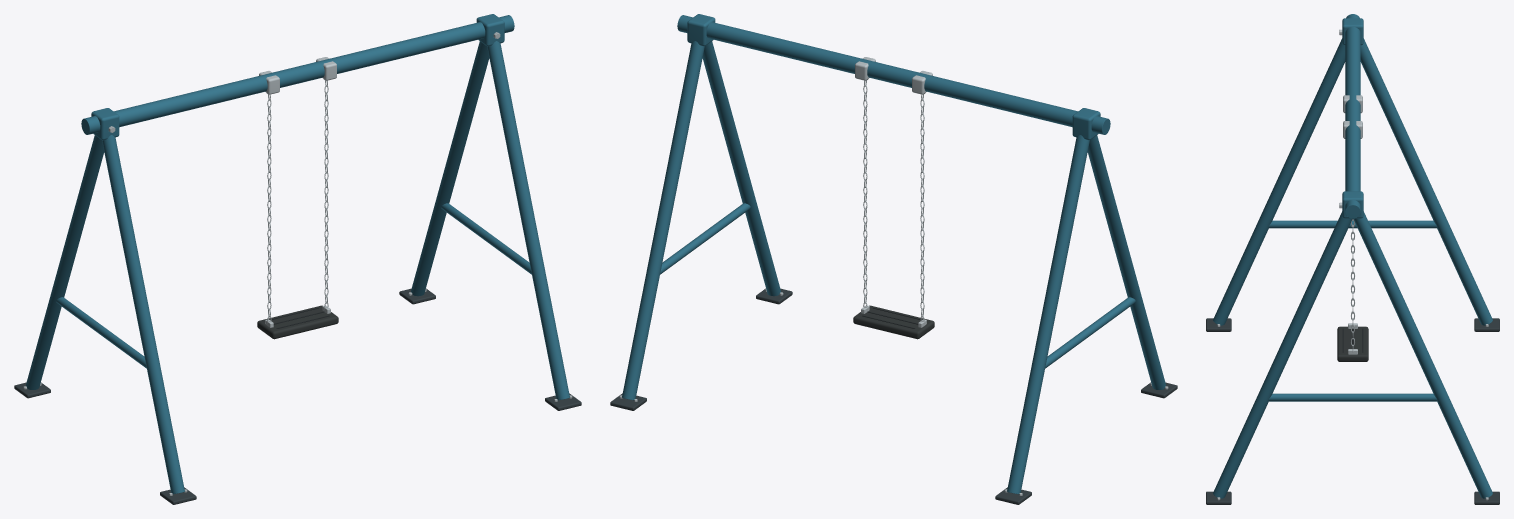
File: city-playground-swing.glb
3 views of the same model, side by side, from view 1: azimuth 30°, elevation 25°; view 2: azimuth 150°, elevation 25°; view 3: azimuth 270°, elevation 25° (orthographic). The views are drawn at different scales.
Parts seen in each view (by area): view 1: Continuous top beam, A-frame structural leg, A-frame structural leg.002, A-frame structural leg.001, A-frame structural leg.003, Rubber swing seat, A-frame spreader brace, A-frame spreader brace.001, Left suspension chain, Right suspension chain, Apex reinforcing saddle.001; view 2: Continuous top beam, A-frame structural leg.001, A-frame structural leg.003, A-frame structural leg, A-frame structural leg.002, Rubber swing seat, A-frame spreader brace, A-frame spreader brace.001, Left suspension chain, Right suspension chain, Apex reinforcing saddle.001, Apex reinforcing saddle; view 3: A-frame structural leg.002, A-frame structural leg.003, A-frame structural leg, A-frame structural leg.001, Continuous top beam, A-frame spreader brace.001, A-frame spreader brace, Rubber swing seat, Apex reinforcing saddle.001, Apex reinforcing saddle.
Part boxes in pixels (x1=…): Continuous top beam: x1=81, y1=15, x2=514, y2=134; A-frame structural leg: x1=102, y1=135, x2=184, y2=494; A-frame structural leg.002: x1=487, y1=41, x2=569, y2=400; A-frame structural leg.001: x1=26, y1=135, x2=104, y2=389; A-frame structural leg.003: x1=411, y1=41, x2=489, y2=296; Rubber swing seat: x1=257, y1=305, x2=338, y2=339; A-frame spreader brace: x1=56, y1=297, x2=146, y2=368; A-frame spreader brace.001: x1=441, y1=203, x2=531, y2=274; Left suspension chain: x1=267, y1=94, x2=271, y2=321; Right suspension chain: x1=324, y1=80, x2=328, y2=307; Apex reinforcing saddle.001: x1=476, y1=14, x2=504, y2=46; Continuous top beam: x1=677, y1=15, x2=1110, y2=134; A-frame structural leg.001: x1=1007, y1=135, x2=1089, y2=494; A-frame structural leg.003: x1=622, y1=41, x2=704, y2=400; A-frame structural leg: x1=1087, y1=135, x2=1165, y2=389; A-frame structural leg.002: x1=702, y1=41, x2=780, y2=296; Rubber swing seat: x1=853, y1=305, x2=934, y2=339; A-frame spreader brace: x1=1045, y1=297, x2=1135, y2=368; A-frame spreader brace.001: x1=660, y1=203, x2=750, y2=274; Left suspension chain: x1=920, y1=94, x2=924, y2=321; Right suspension chain: x1=863, y1=80, x2=867, y2=307; Apex reinforcing saddle.001: x1=687, y1=14, x2=715, y2=46; Apex reinforcing saddle: x1=1072, y1=108, x2=1100, y2=140; A-frame structural leg.002: x1=1213, y1=211, x2=1352, y2=498; A-frame structural leg.003: x1=1353, y1=211, x2=1492, y2=498; A-frame structural leg: x1=1213, y1=38, x2=1345, y2=325; A-frame structural leg.001: x1=1360, y1=38, x2=1492, y2=325; Continuous top beam: x1=1345, y1=14, x2=1360, y2=218; A-frame spreader brace.001: x1=1268, y1=393, x2=1437, y2=401; A-frame spreader brace: x1=1268, y1=220, x2=1437, y2=228; Rubber swing seat: x1=1337, y1=326, x2=1368, y2=361; Apex reinforcing saddle.001: x1=1342, y1=191, x2=1363, y2=218; Apex reinforcing saddle: x1=1342, y1=18, x2=1363, y2=45.
Size of the model in its own units: 3.2 by 2.39 by 2.08.
